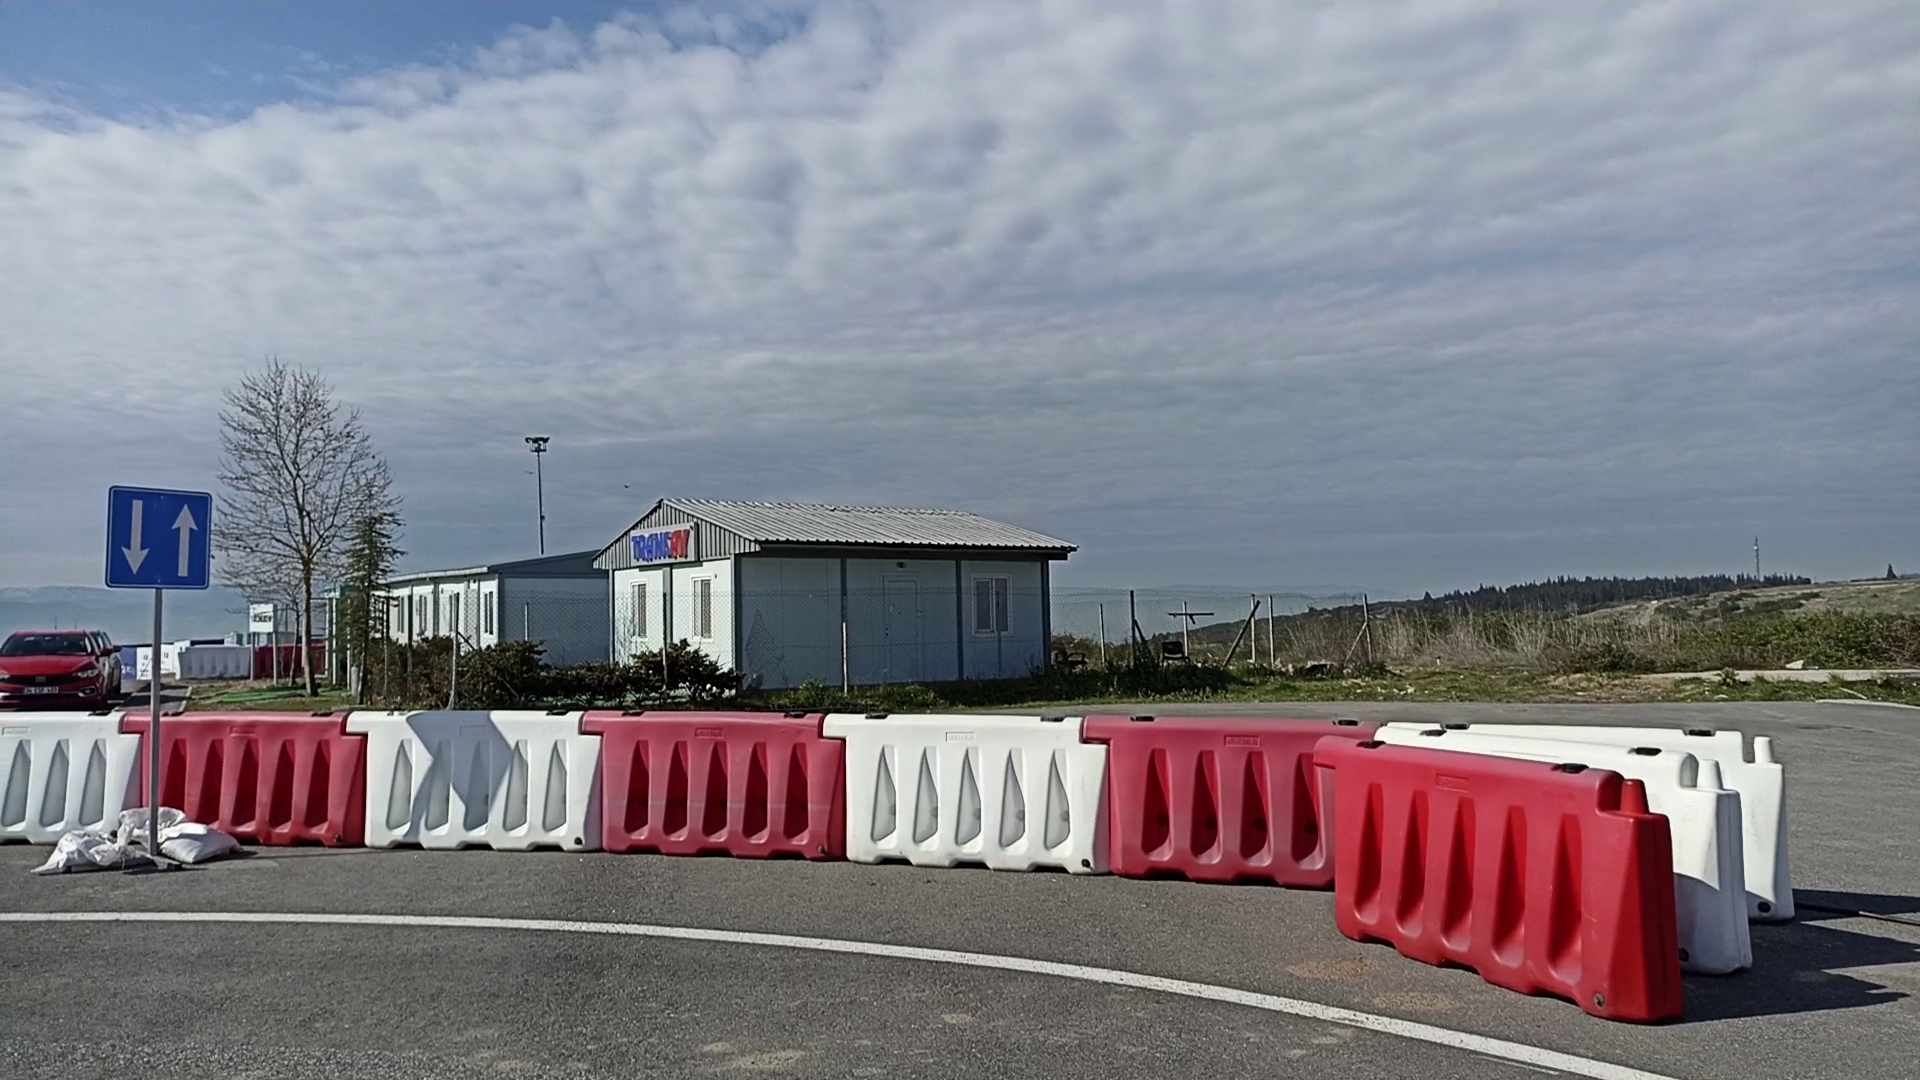oneway: (102, 483, 215, 593)
